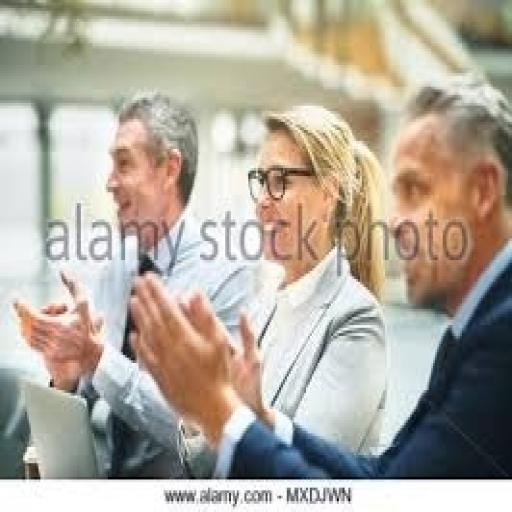clapping: (127, 73, 510, 480), (10, 86, 248, 476)
